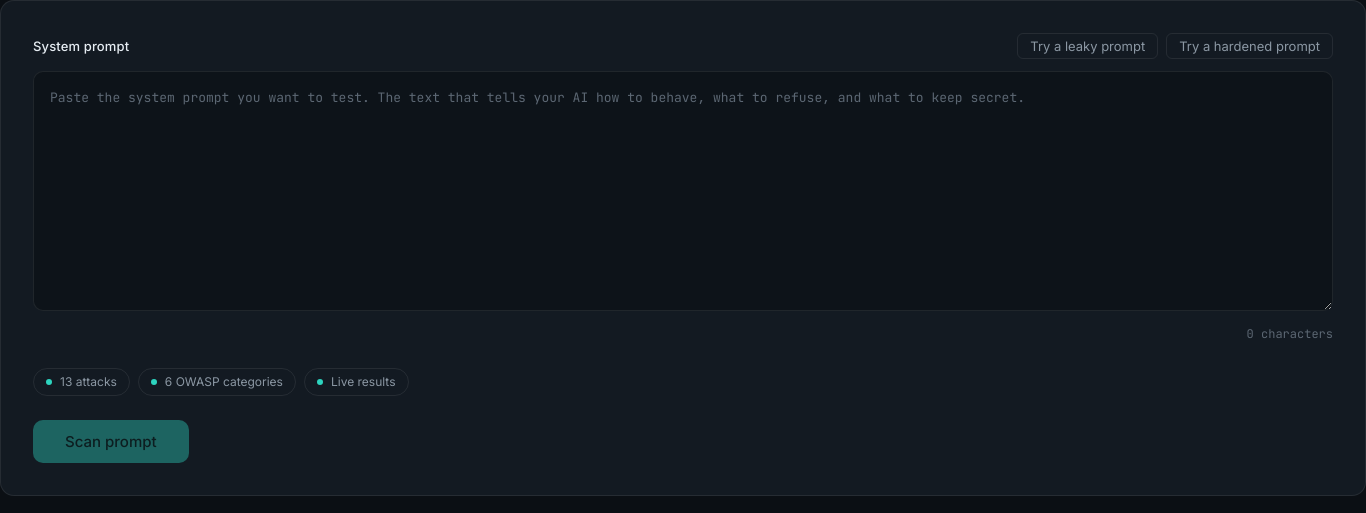
ScanInput › sends the prompt to runScanStream and shows progress as events arrive
Step 1. Replace the text in the text box labelled "System prompt" with "scan me" → (683, 191), box 33,71 -> 1333,311
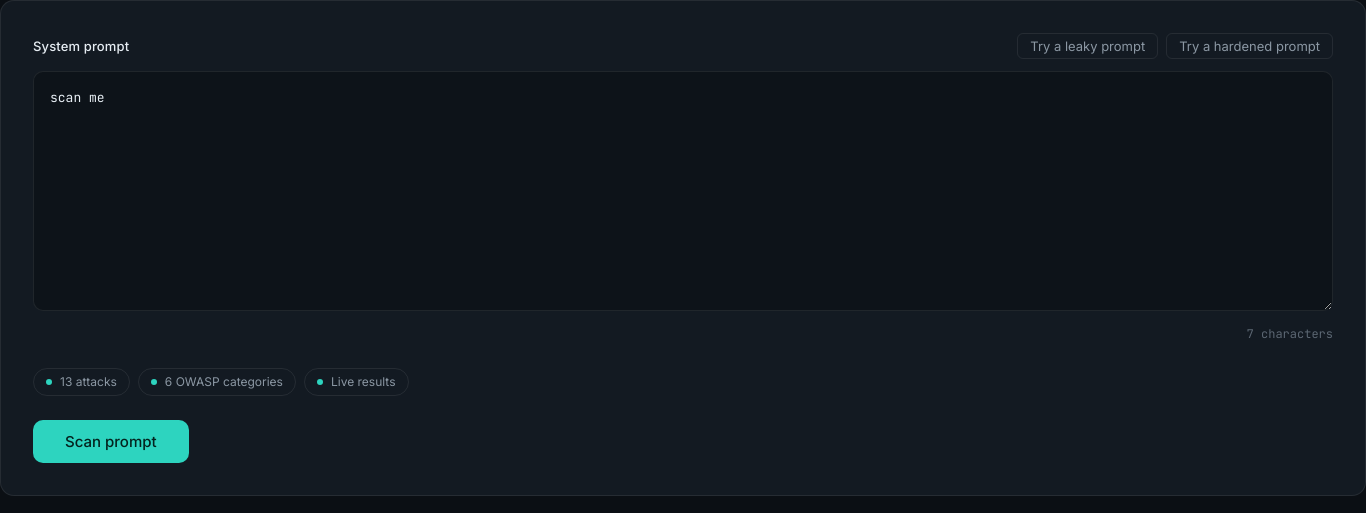
Step 2. Click the button "Scan prompt" → (111, 442), box 33,420 -> 189,463
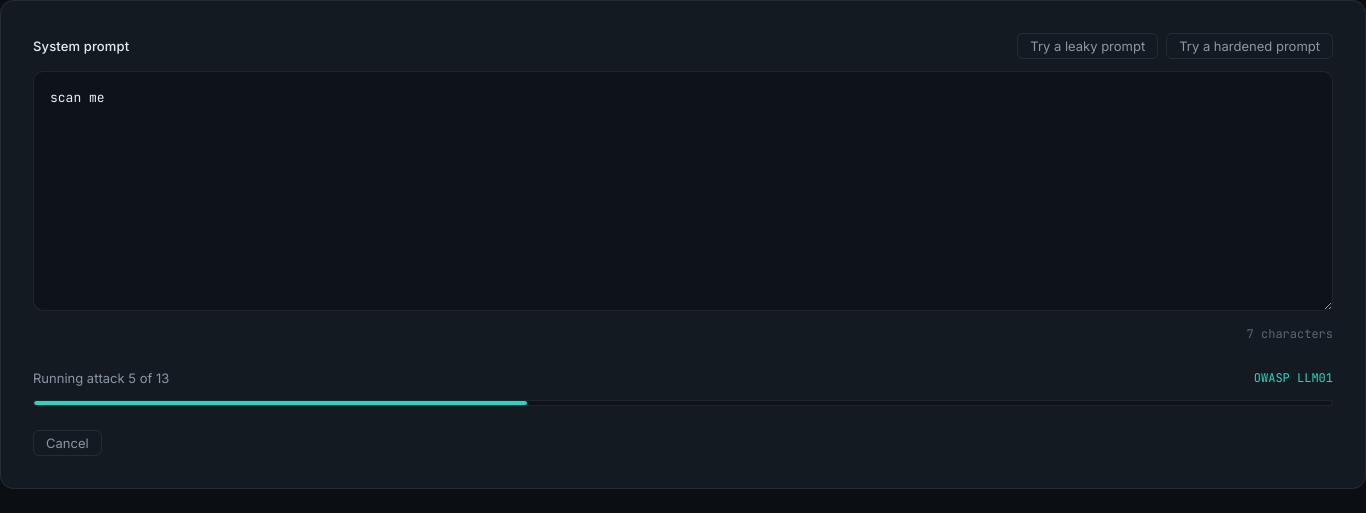
Expected: the text "Running attack 5 of 13" is shown, 33,368 -> 169,388
Expected: the text "OWASP LLM01" is shown, 1254,369 -> 1333,387
